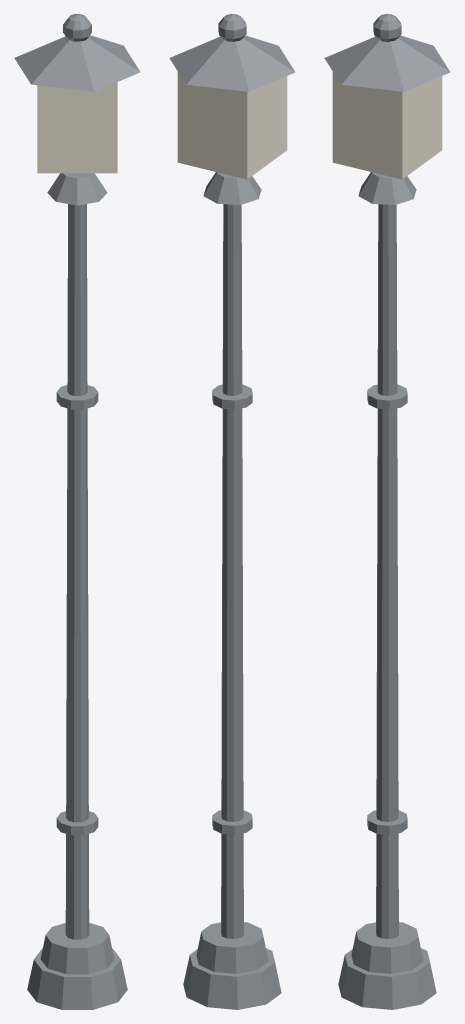
Rendered from park_lamp.glb.
3 views of the same model, side by side, from view 1: azimuth 90°, elevation 25°; view 2: azimuth 150°, elevation 25°; view 3: azimuth 330°, elevation 25° (orthographic).
Visible parts, largest first — view 1: ParkLamp_Body, ParkLamp_Lantern; view 2: ParkLamp_Body, ParkLamp_Lantern; view 3: ParkLamp_Body, ParkLamp_Lantern.
Boxes of the visible parts, box(x1,y1,x2,y2) form: ParkLamp_Body: box(14, 14, 140, 1009); ParkLamp_Lantern: box(37, 82, 117, 173); ParkLamp_Body: box(169, 14, 295, 1009); ParkLamp_Lantern: box(177, 71, 287, 179); ParkLamp_Body: box(324, 14, 450, 1009); ParkLamp_Lantern: box(332, 71, 442, 179).
Bounding box in the file's own units: 0.0377 × 0.3205 × 0.0377.
